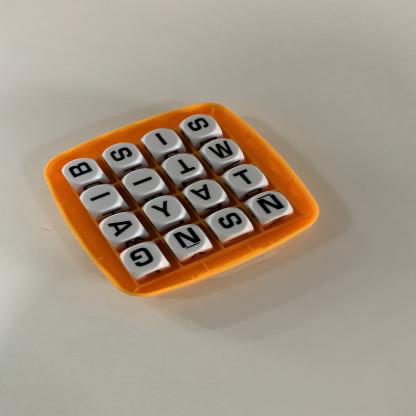a: (103, 214, 142, 241), (188, 180, 225, 207)
b: (63, 159, 100, 185)
g: (125, 244, 164, 274)
i: (83, 185, 120, 213), (126, 169, 162, 195), (145, 129, 181, 153)
n: (252, 192, 291, 221), (168, 227, 208, 254)
s: (211, 208, 249, 238), (105, 144, 141, 168), (184, 115, 218, 139)
t: (227, 165, 265, 191), (165, 154, 202, 180)
w: (204, 139, 240, 165)
y: (146, 197, 185, 225)
